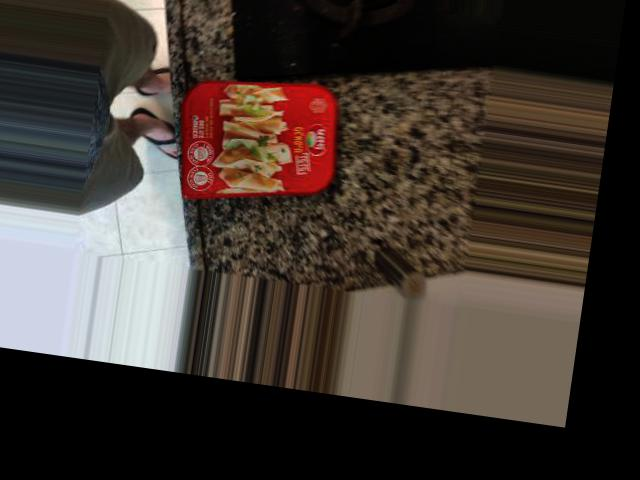cheese: (235, 55, 406, 207)
